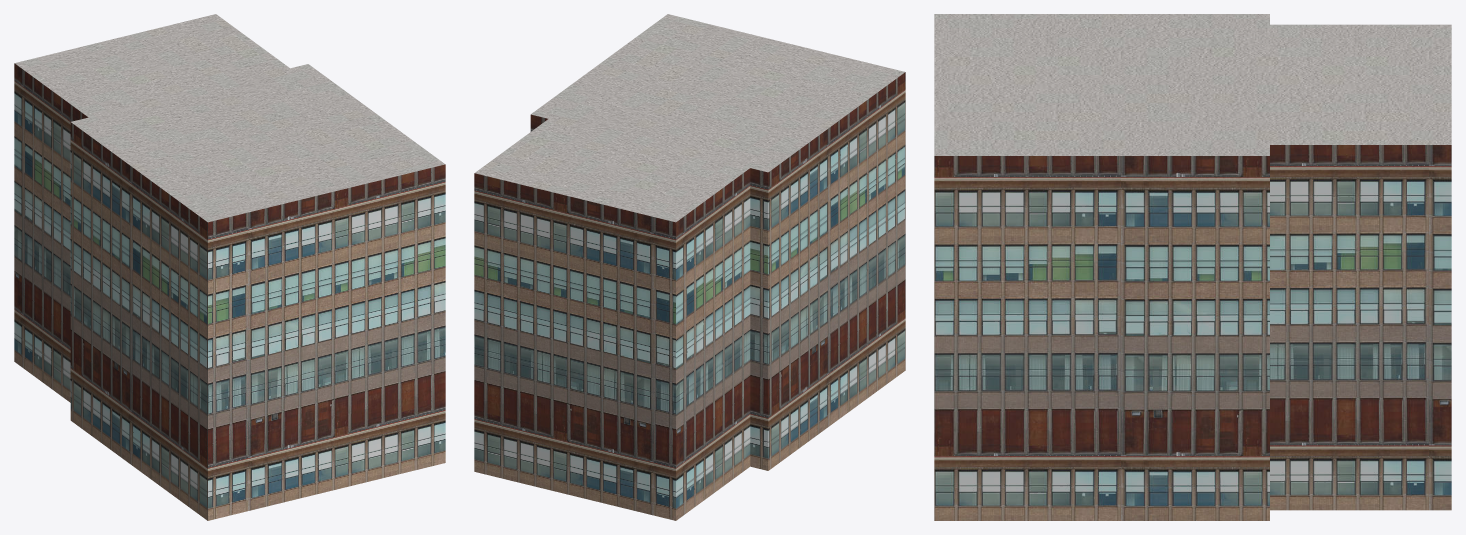
File: building_005_002.glb
The picture shows the model from 3 angles, left to right: view 1: azimuth 30°, elevation 25°; view 2: azimuth 150°, elevation 25°; view 3: azimuth 270°, elevation 25°; orthographic projection. The views are drawn at different scales.
Visible parts, largest first — view 1: building_005.002; view 2: building_005.002; view 3: building_005.002.
Part boxes in pixels (<box>): building_005.002: <box>14,14,445,520</box>; building_005.002: <box>474,14,905,520</box>; building_005.002: <box>934,14,1451,520</box>.
Bounding box in the file's own units: 1000 × 1200 × 1541.
Materials: 2 (2 with a texture image).
